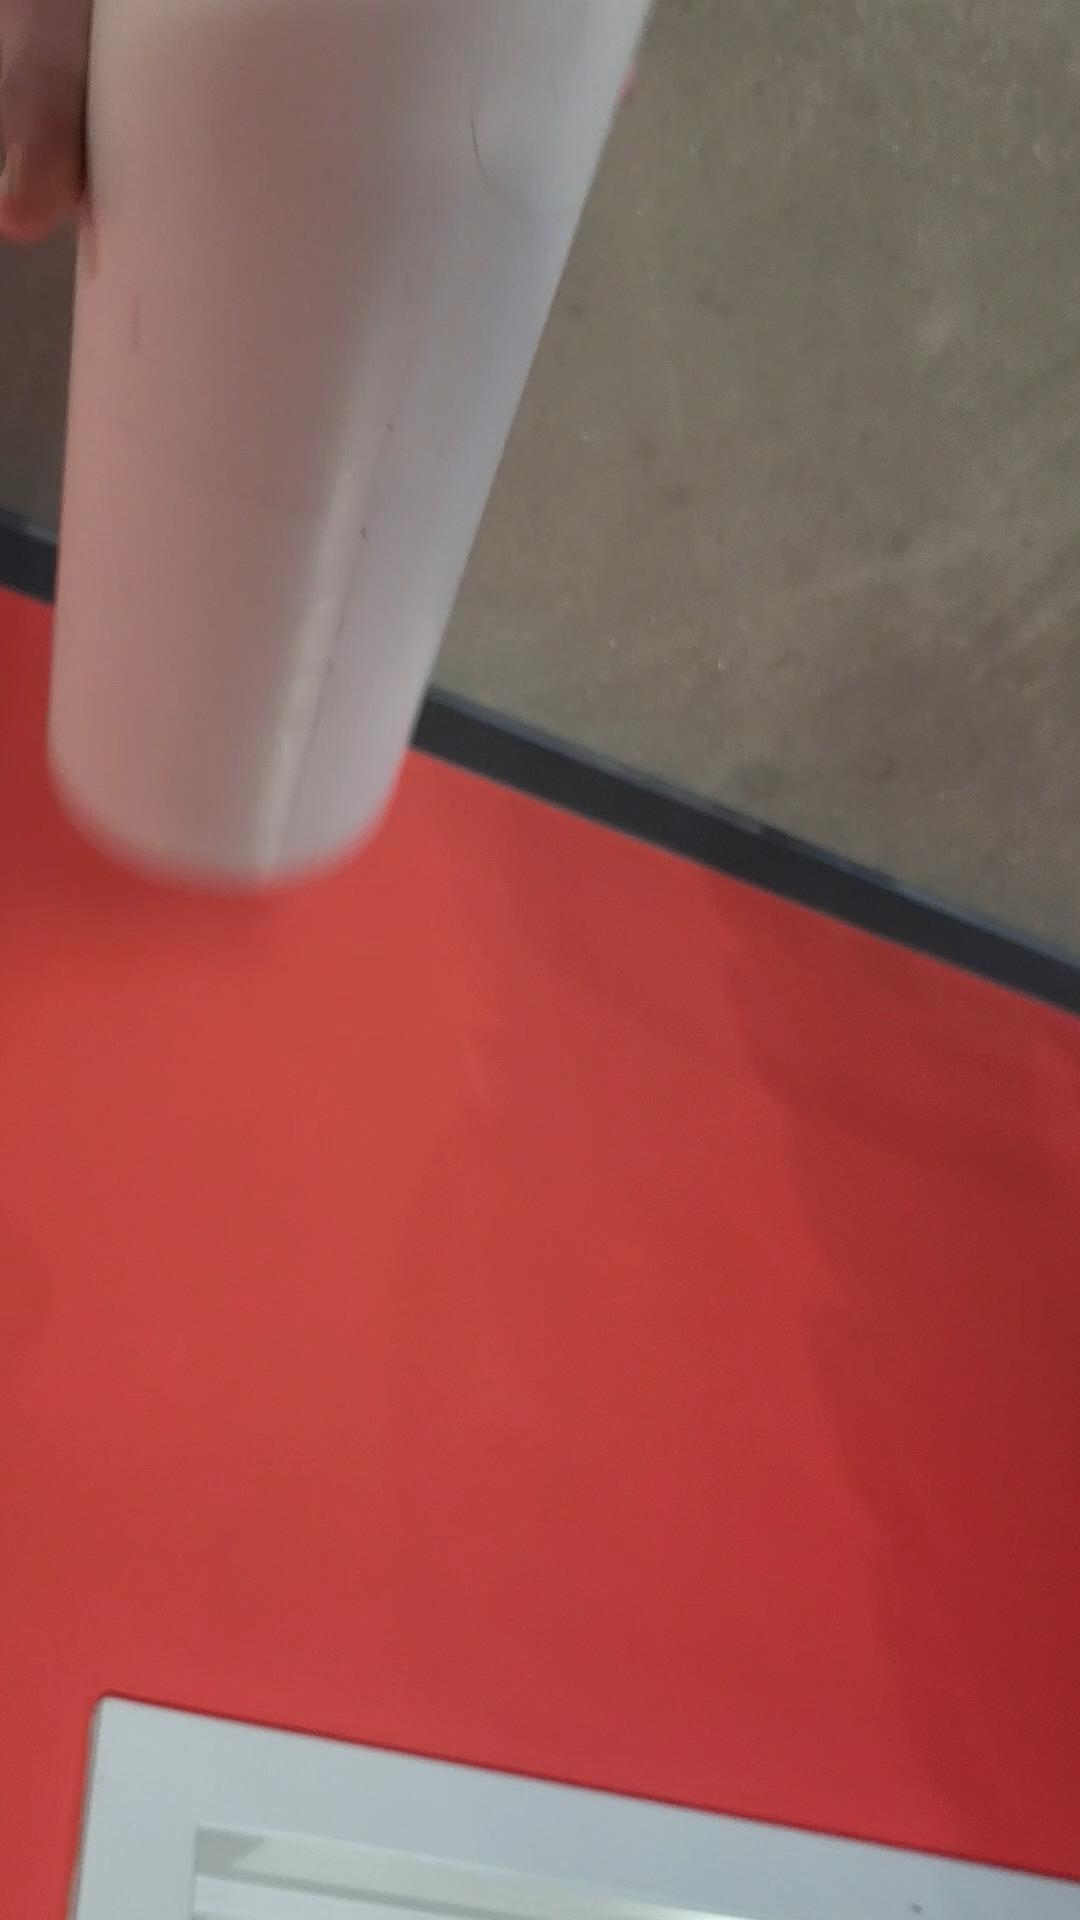coral: (0, 0, 653, 877)
